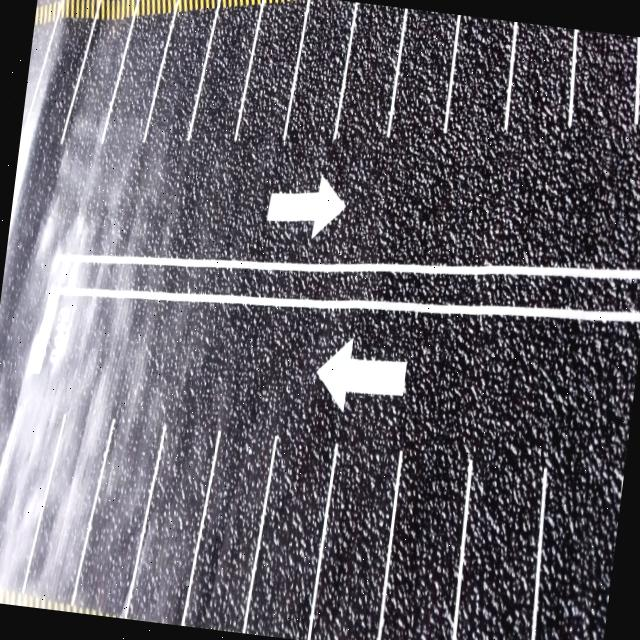slots: (76, 370, 164, 612), (25, 374, 113, 601), (185, 411, 274, 630), (312, 415, 398, 640), (129, 403, 216, 624), (247, 413, 332, 638), (535, 446, 627, 640), (457, 442, 543, 640), (381, 442, 464, 640), (0, 396, 62, 590), (286, 0, 352, 170), (100, 13, 172, 163), (145, 8, 215, 159), (336, 4, 403, 155), (239, 4, 303, 162), (22, 16, 93, 155), (191, 8, 258, 144), (392, 11, 455, 149), (448, 18, 512, 140), (71, 18, 131, 129)
